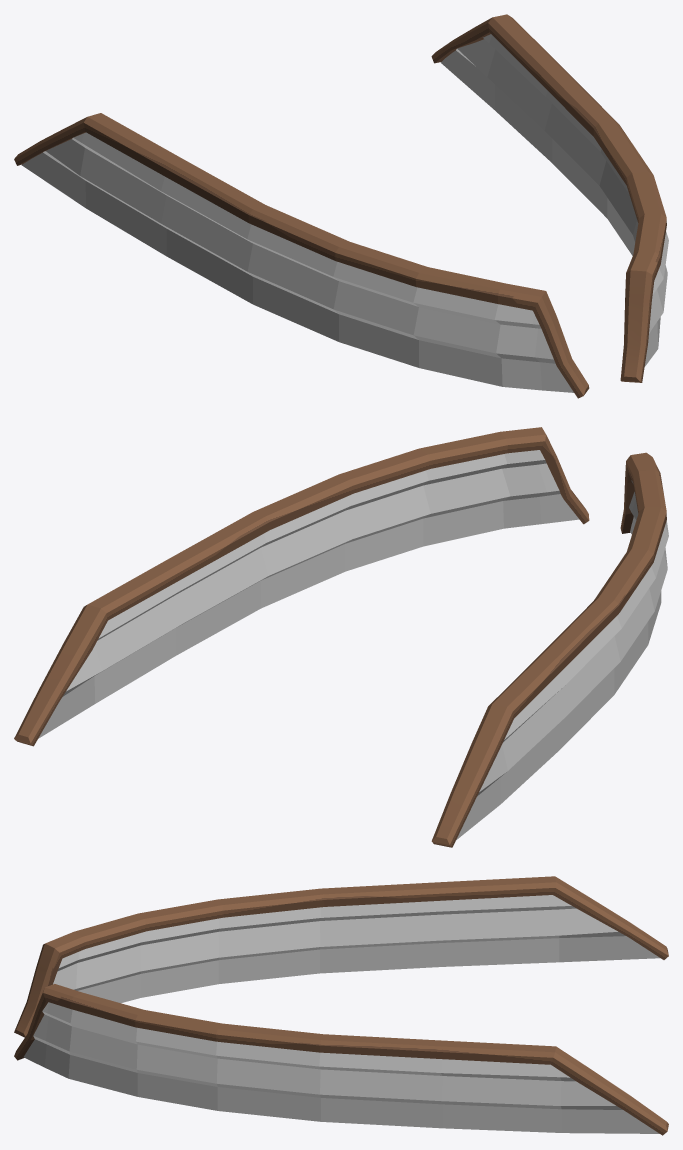
The model's file is SM_Veh_Ship_M_Front_03.fbx.
3 renders of one model, top to bottom at view 1: azimuth 30°, elevation 25°; view 2: azimuth 150°, elevation 25°; view 3: azimuth 270°, elevation 25°, orthographic. The views are drawn at different scales.
Visible parts, largest first — view 1: SM_Veh_Ship_M_Front_03; view 2: SM_Veh_Ship_M_Front_03; view 3: SM_Veh_Ship_M_Front_03.
Part boxes in pixels (<box>): SM_Veh_Ship_M_Front_03: <box>14,14,668,398</box>; SM_Veh_Ship_M_Front_03: <box>14,427,668,847</box>; SM_Veh_Ship_M_Front_03: <box>14,876,668,1135</box>.
Size of the model in its own units: 676 by 144 by 1023.
